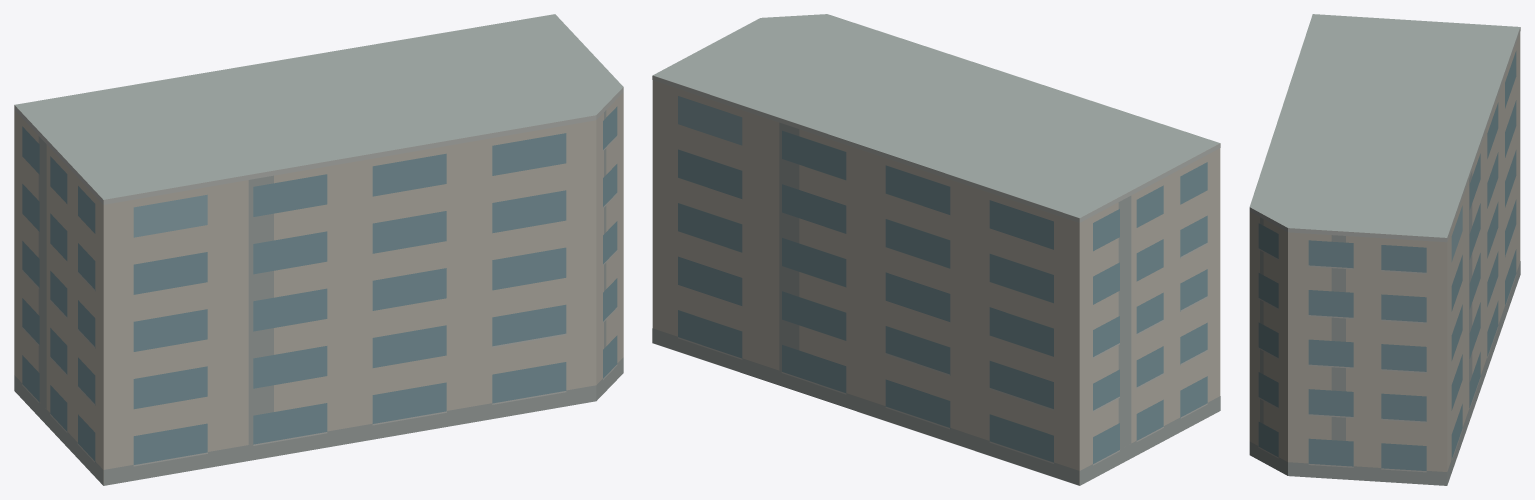
Rendered from survey-upis-32851077.glb.
3 renders of one model, left to right at view 1: azimuth 30°, elevation 25°; view 2: azimuth 150°, elevation 25°; view 3: azimuth 270°, elevation 25°, orthographic. The views are drawn at different scales.
Parts seen in each view (by area): view 1: survey-upis-32851077.tmp; view 2: survey-upis-32851077.tmp; view 3: survey-upis-32851077.tmp.
Boxes of the visible parts, x1=… form: survey-upis-32851077.tmp: x1=14, y1=14, x2=623, y2=485; survey-upis-32851077.tmp: x1=652, y1=14, x2=1220, y2=485; survey-upis-32851077.tmp: x1=1249, y1=14, x2=1520, y2=485.
Size of the model in its own units: 26.93 by 13.9 by 13.77.
